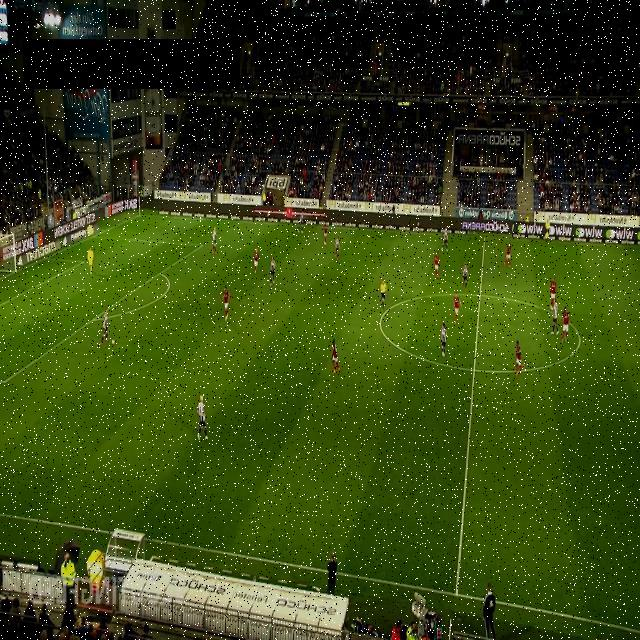Ball: (111, 338, 115, 346)
Corner: (134, 191, 144, 219)
GoalKeeper: (88, 245, 94, 275)
Referee: (380, 278, 387, 310), (543, 217, 551, 243)
TEAM 1: (560, 306, 570, 344), (515, 340, 525, 377), (332, 338, 341, 375), (453, 292, 462, 324), (223, 286, 231, 322), (504, 242, 512, 268), (550, 277, 556, 311), (434, 250, 440, 279), (254, 247, 258, 274), (323, 224, 327, 246)
TEAM 2: (197, 394, 209, 442), (550, 298, 560, 336), (100, 308, 108, 345), (440, 322, 447, 357), (296, 210, 304, 236), (211, 226, 218, 254), (270, 254, 276, 286), (442, 226, 449, 252), (462, 262, 468, 290), (334, 236, 340, 260)
